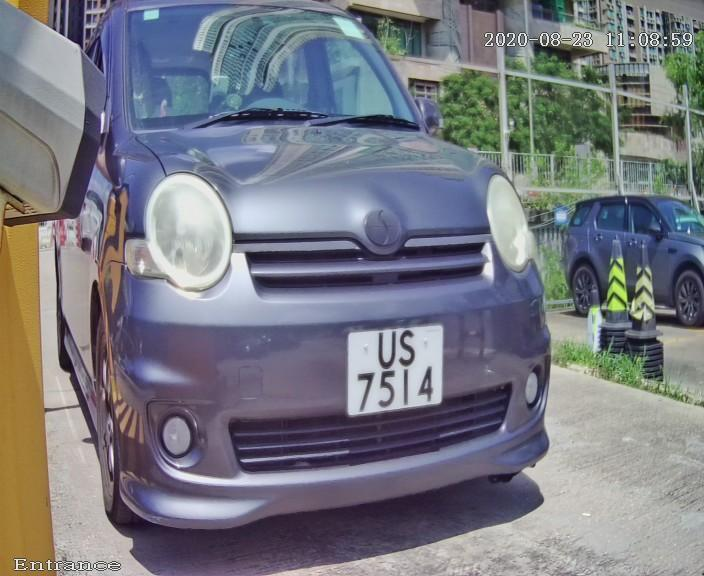Car: (29, 1, 591, 576)
License Plate: (337, 312, 456, 433)
